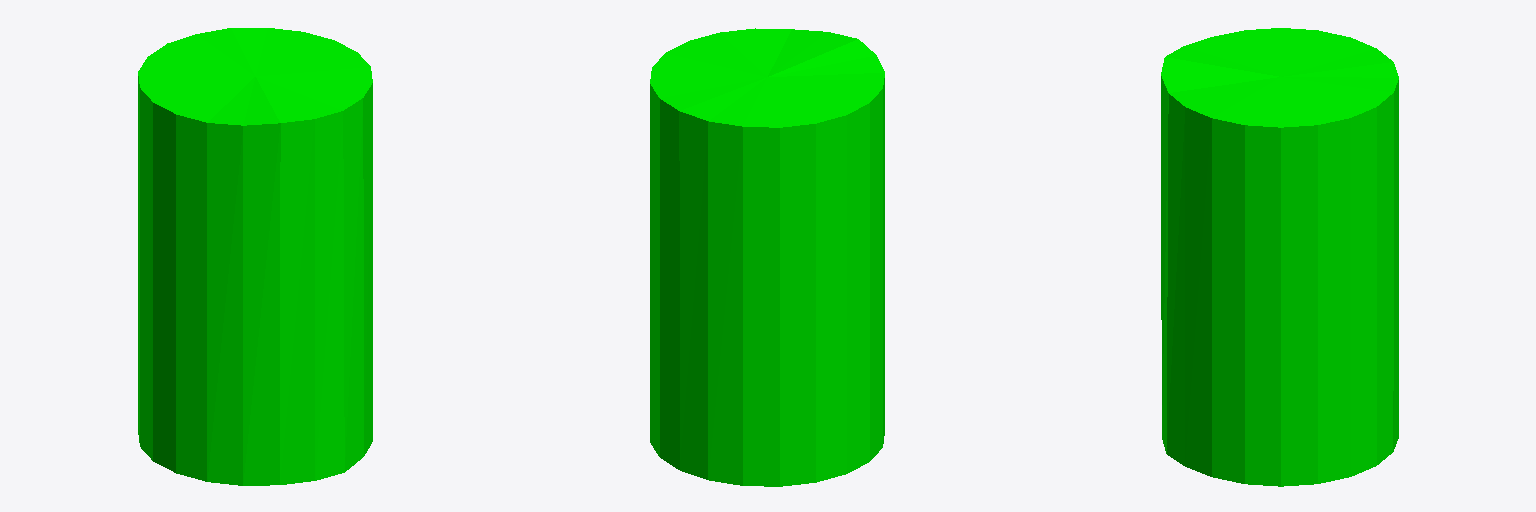
Rendered from body.obj.
3 renders of one model, left to right at view 1: azimuth 30°, elevation 25°; view 2: azimuth 150°, elevation 25°; view 3: azimuth 270°, elevation 25°, orthographic.
Visible parts, largest first — view 1: body:pCylinder1; view 2: body:pCylinder1; view 3: body:pCylinder1.
Boxes of the visible parts, box(x1,y1,x2,y2) form: body:pCylinder1: box(138, 28, 372, 485); body:pCylinder1: box(650, 28, 884, 486); body:pCylinder1: box(1161, 28, 1398, 486).
Bounding box in the file's own units: 41.95 × 71.66 × 42.33.